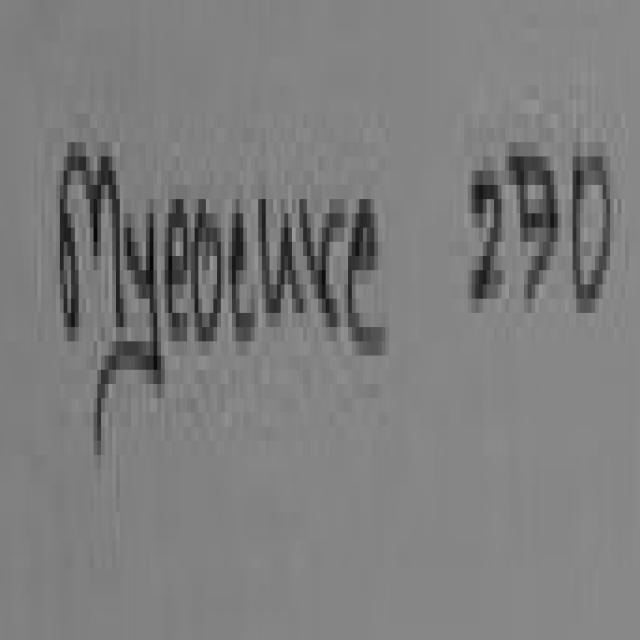0: (565, 108, 617, 344)
2: (462, 114, 510, 370)
5: (510, 104, 566, 340)
M: (52, 85, 123, 338)
c: (158, 176, 192, 357), (228, 182, 260, 359)
e: (342, 166, 398, 396)
o: (189, 172, 226, 370)
r: (300, 163, 343, 359)
u: (253, 179, 300, 340)
y: (74, 181, 169, 540)
